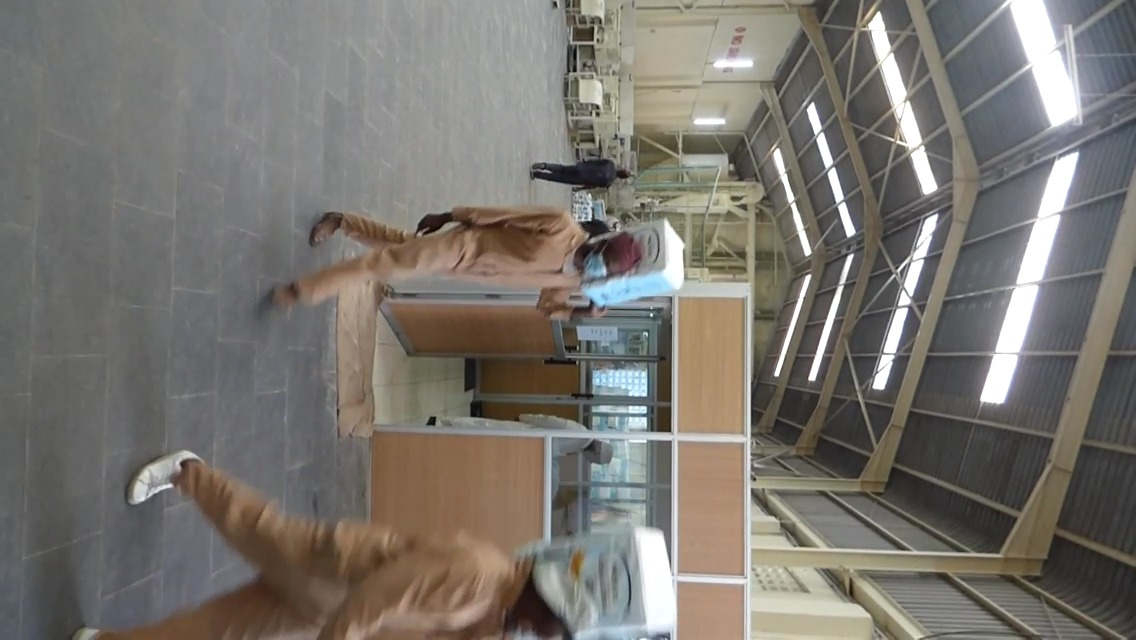wheat_flour_blue_label: (547, 519, 666, 634), (592, 220, 680, 297)
